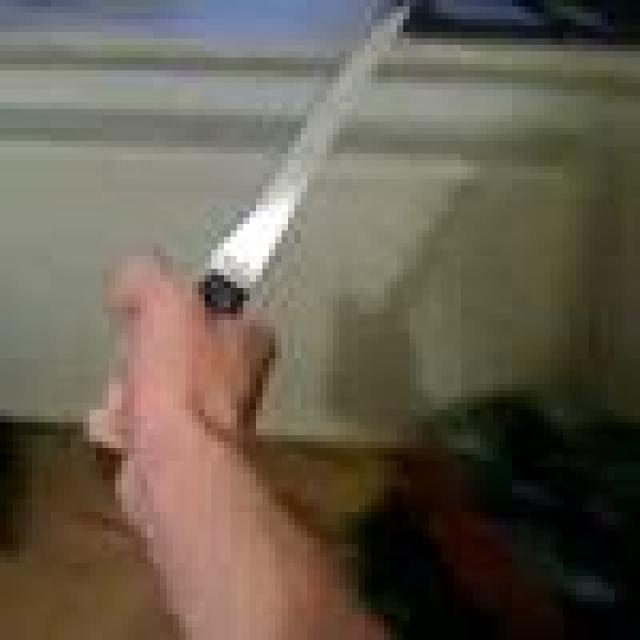faca: (76, 0, 442, 557)
